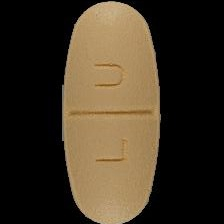61919-685: (0, 0, 224, 224)
